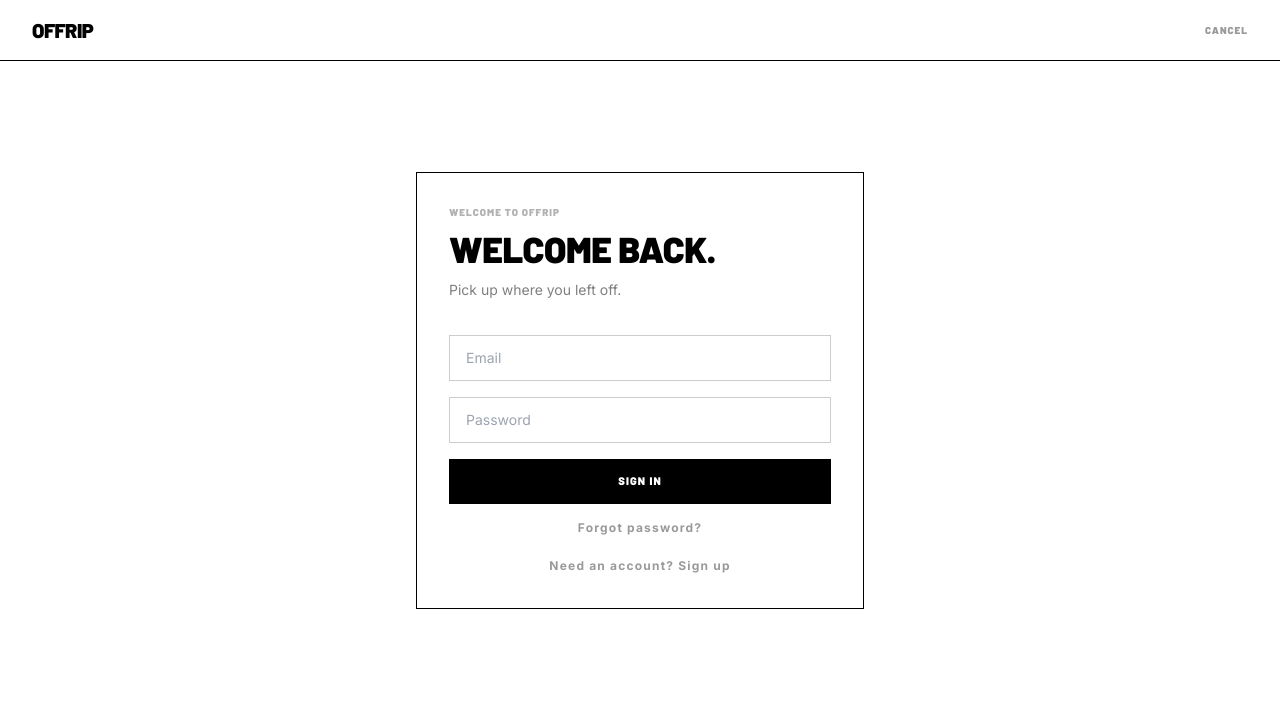
Test: forgot password › shows the same generic confirmation for avery@example.com
The image size is (1280, 720).
Click the button "Forgot password?" at (640,528), box [449, 520, 831, 536]
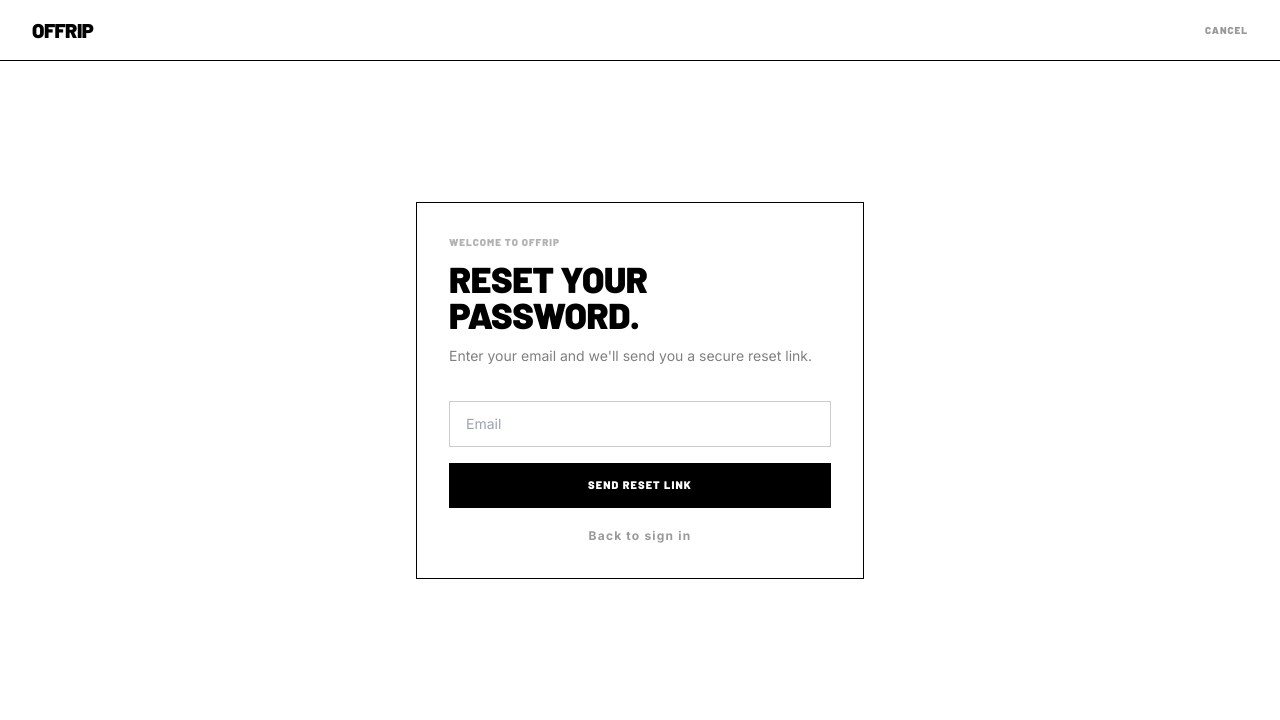
Type "avery@example.com" into the field with placeholder "Email" at (640,424), box [449, 401, 831, 447]
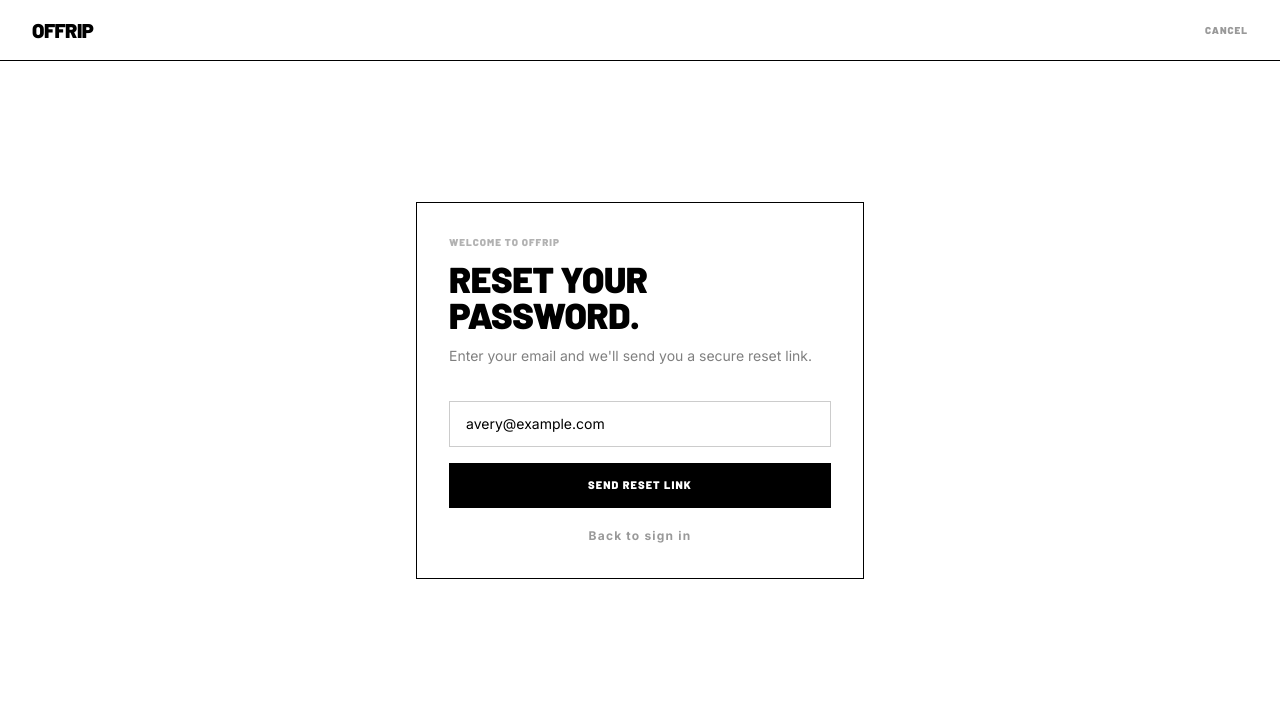
Click the button "Send reset link" at (640,485), box [449, 463, 831, 508]
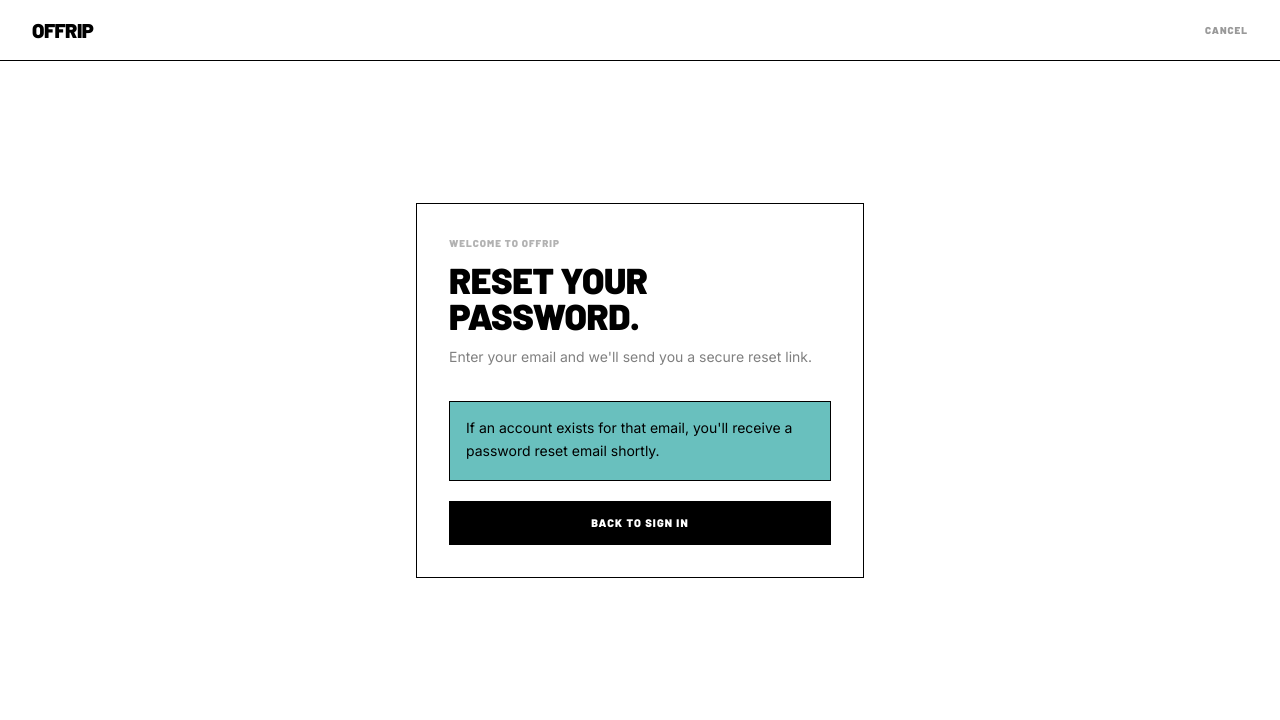
Result: the message shows "If an account exists for that email, you'll receive a password reset email shortly." at [466, 420, 792, 460]
